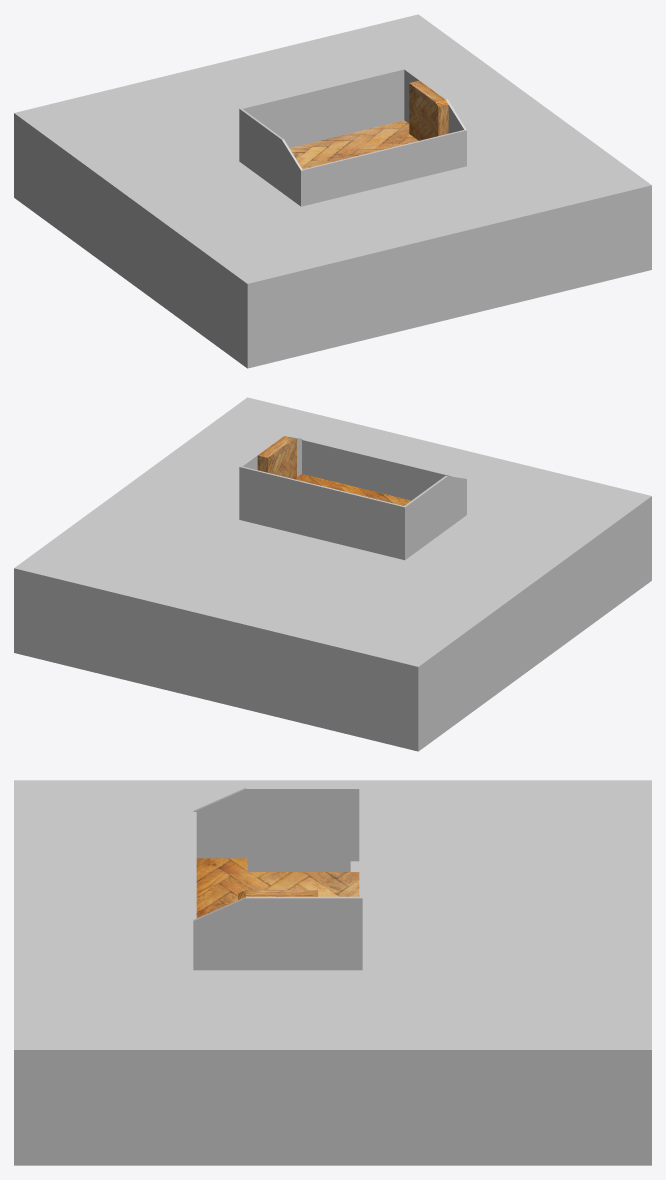
Rendered from house.FBX.
The picture shows the model from 3 angles, top to bottom: view 1: azimuth 30°, elevation 25°; view 2: azimuth 150°, elevation 25°; view 3: azimuth 270°, elevation 25°; orthographic projection. The views are drawn at different scales.
Parts seen in each view (by area): view 1: ground, back wall, back wall004, back wall002, floor, back wall003, back wall001; view 2: ground, back wall, back wall004, back wall002, back wall003, floor, back wall001; view 3: ground, back wall001, back wall002, floor, back wall003.
Boxes of the visible parts, box(x1,y1,x2,y2) form: ground: box(14, 14, 651, 368); back wall: box(241, 68, 404, 148); back wall004: box(303, 130, 464, 205); back wall002: box(239, 108, 303, 206); floor: box(290, 120, 418, 169); back wall003: box(409, 80, 448, 140); back wall001: box(403, 68, 466, 166); ground: box(14, 397, 651, 751); back wall: box(241, 466, 403, 559); back wall004: box(302, 439, 462, 500); back wall002: box(403, 476, 466, 560); back wall003: box(257, 436, 296, 479); floor: box(297, 474, 411, 505); back wall001: box(239, 436, 302, 519); ground: box(14, 780, 651, 1165); back wall001: box(193, 896, 362, 970); back wall002: box(193, 787, 362, 861); floor: box(196, 858, 359, 918); back wall003: box(238, 890, 317, 900).
Size of the model in its own units: 20 by 6.5 by 20.
